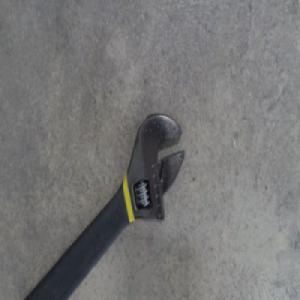AdjustableWrench: (29, 111, 185, 297)
